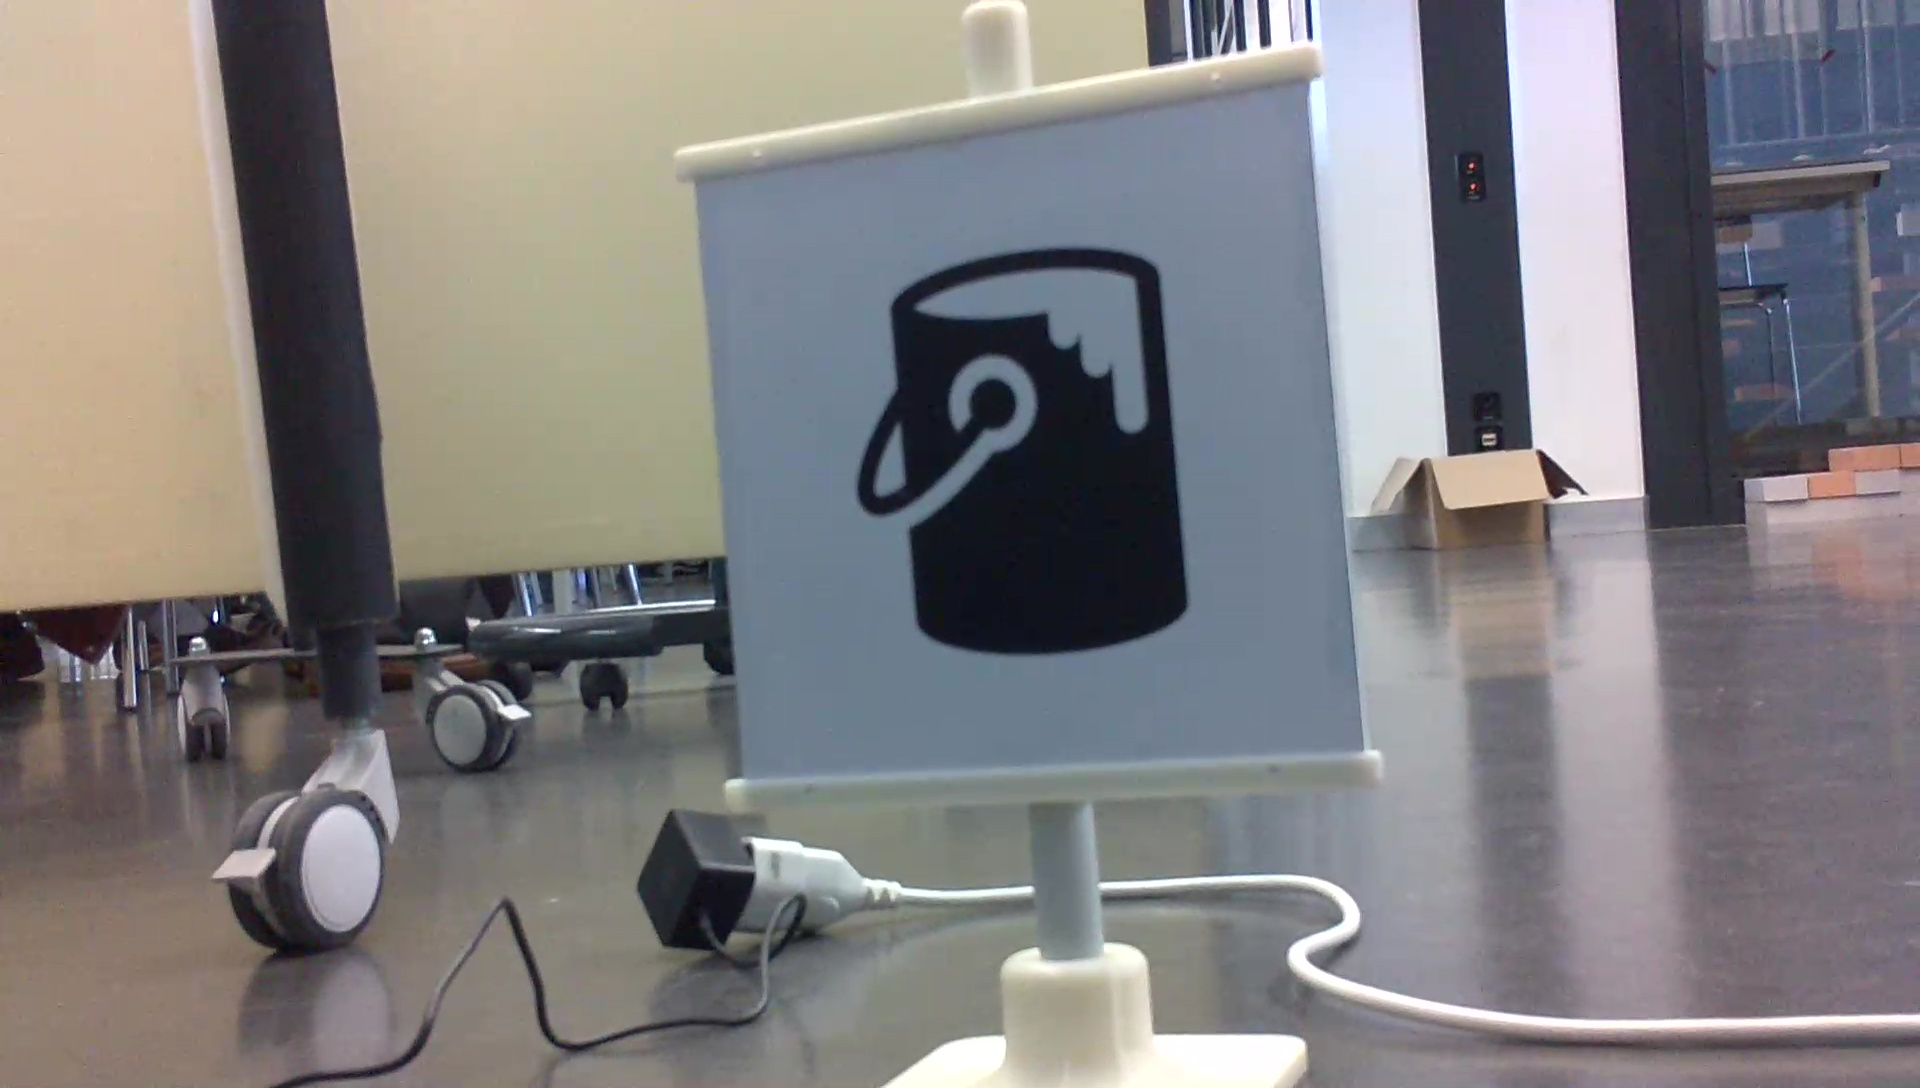bucket: (843, 235, 1203, 663)
